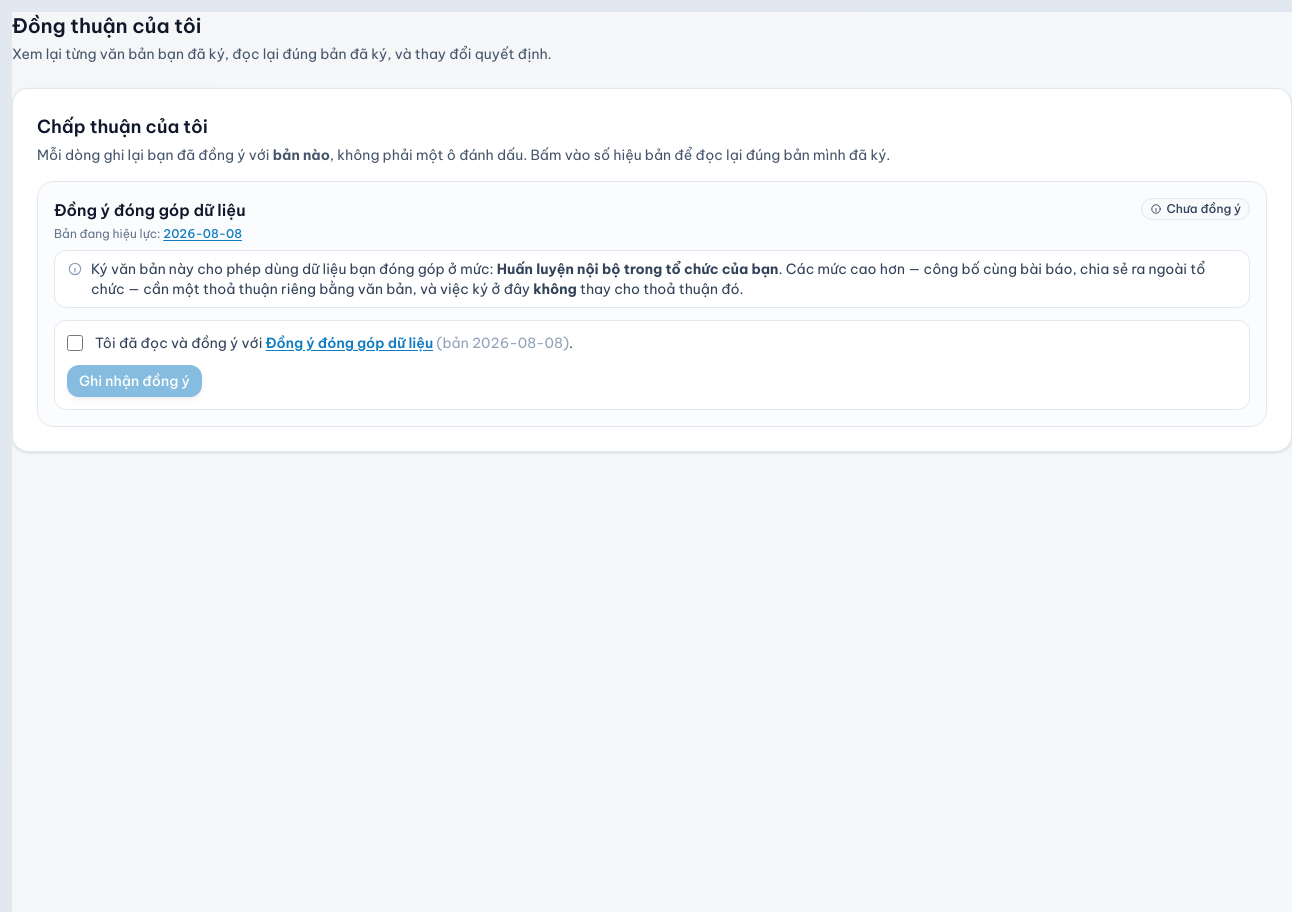
Test: Ký một văn bản › khoá nút ký cho tới khi người dùng xác nhận đã đọc
Expected: the button "Ghi nhận đồng ý" is disabled, [67,365,202,397]
Step 1. Click the checkbox → x=75, y=343, box [67,335,83,351]
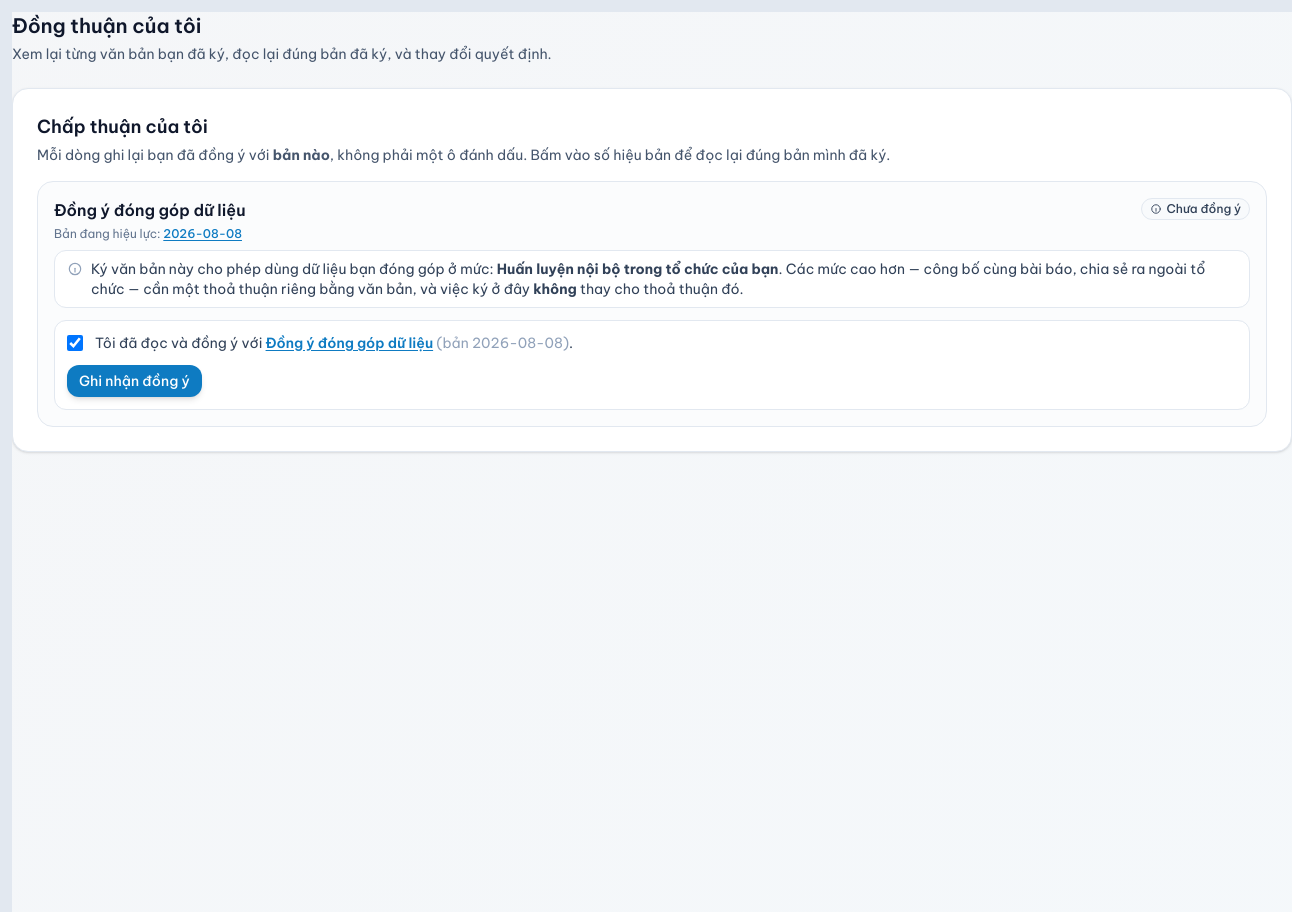
Expected: the button "Ghi nhận đồng ý" is enabled, [67,365,202,397]
